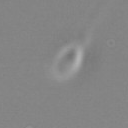normal: (75, 1, 112, 41)
